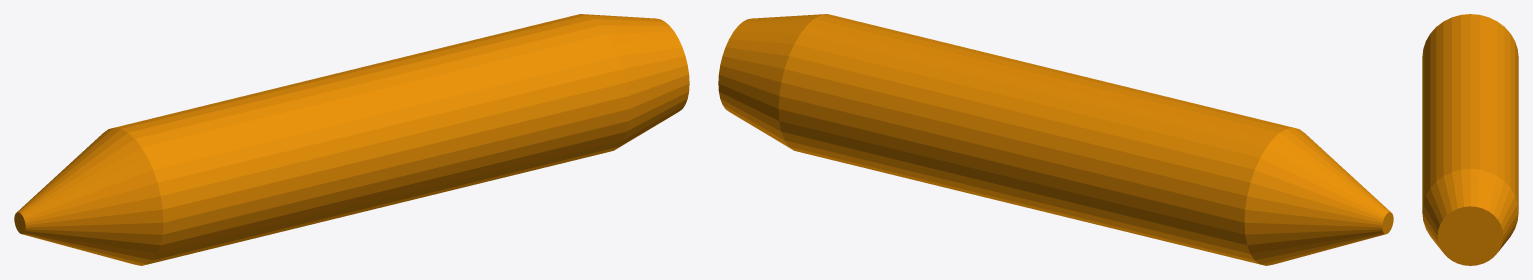
File: mp40 bullet.fbx
3 views of the same model, side by side, from view 1: azimuth 30°, elevation 25°; view 2: azimuth 150°, elevation 25°; view 3: azimuth 270°, elevation 25° (orthographic). The views are drawn at different scales.
Visible parts, largest first — view 1: Cylinder; view 2: Cylinder; view 3: Cylinder.
Boxes of the visible parts, <box> form: Cylinder: <box>14,14,689,265</box>; Cylinder: <box>718,14,1393,265</box>; Cylinder: <box>1422,14,1518,265</box>.
Bounding box in the file's own units: 16.05 × 3.05 × 3.05.
